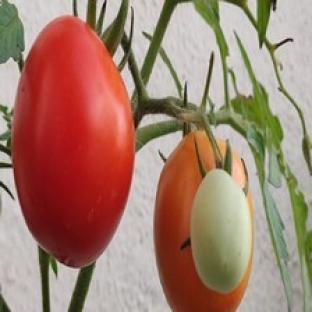Tomato: (13, 17, 135, 267), (155, 131, 252, 311), (191, 169, 252, 293)
